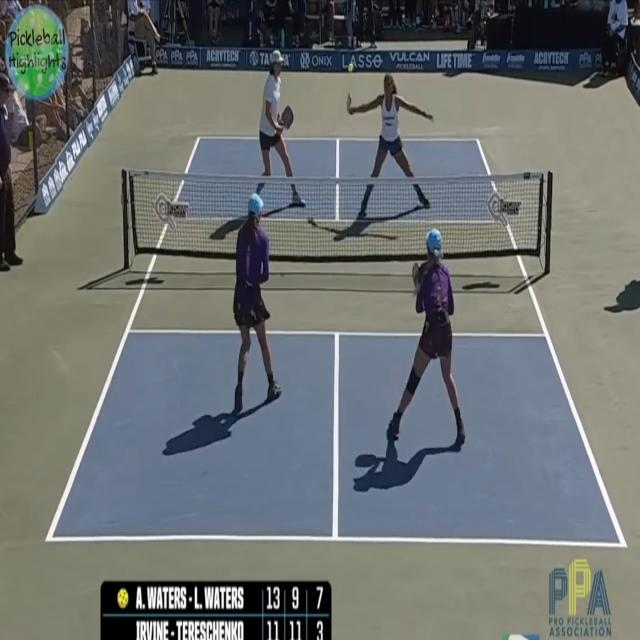Court: (49, 139, 625, 549)
